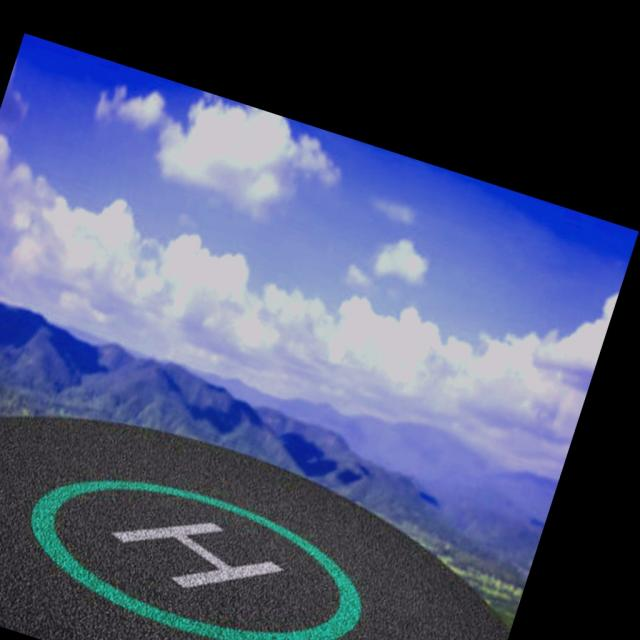helipad: (23, 475, 366, 639)
